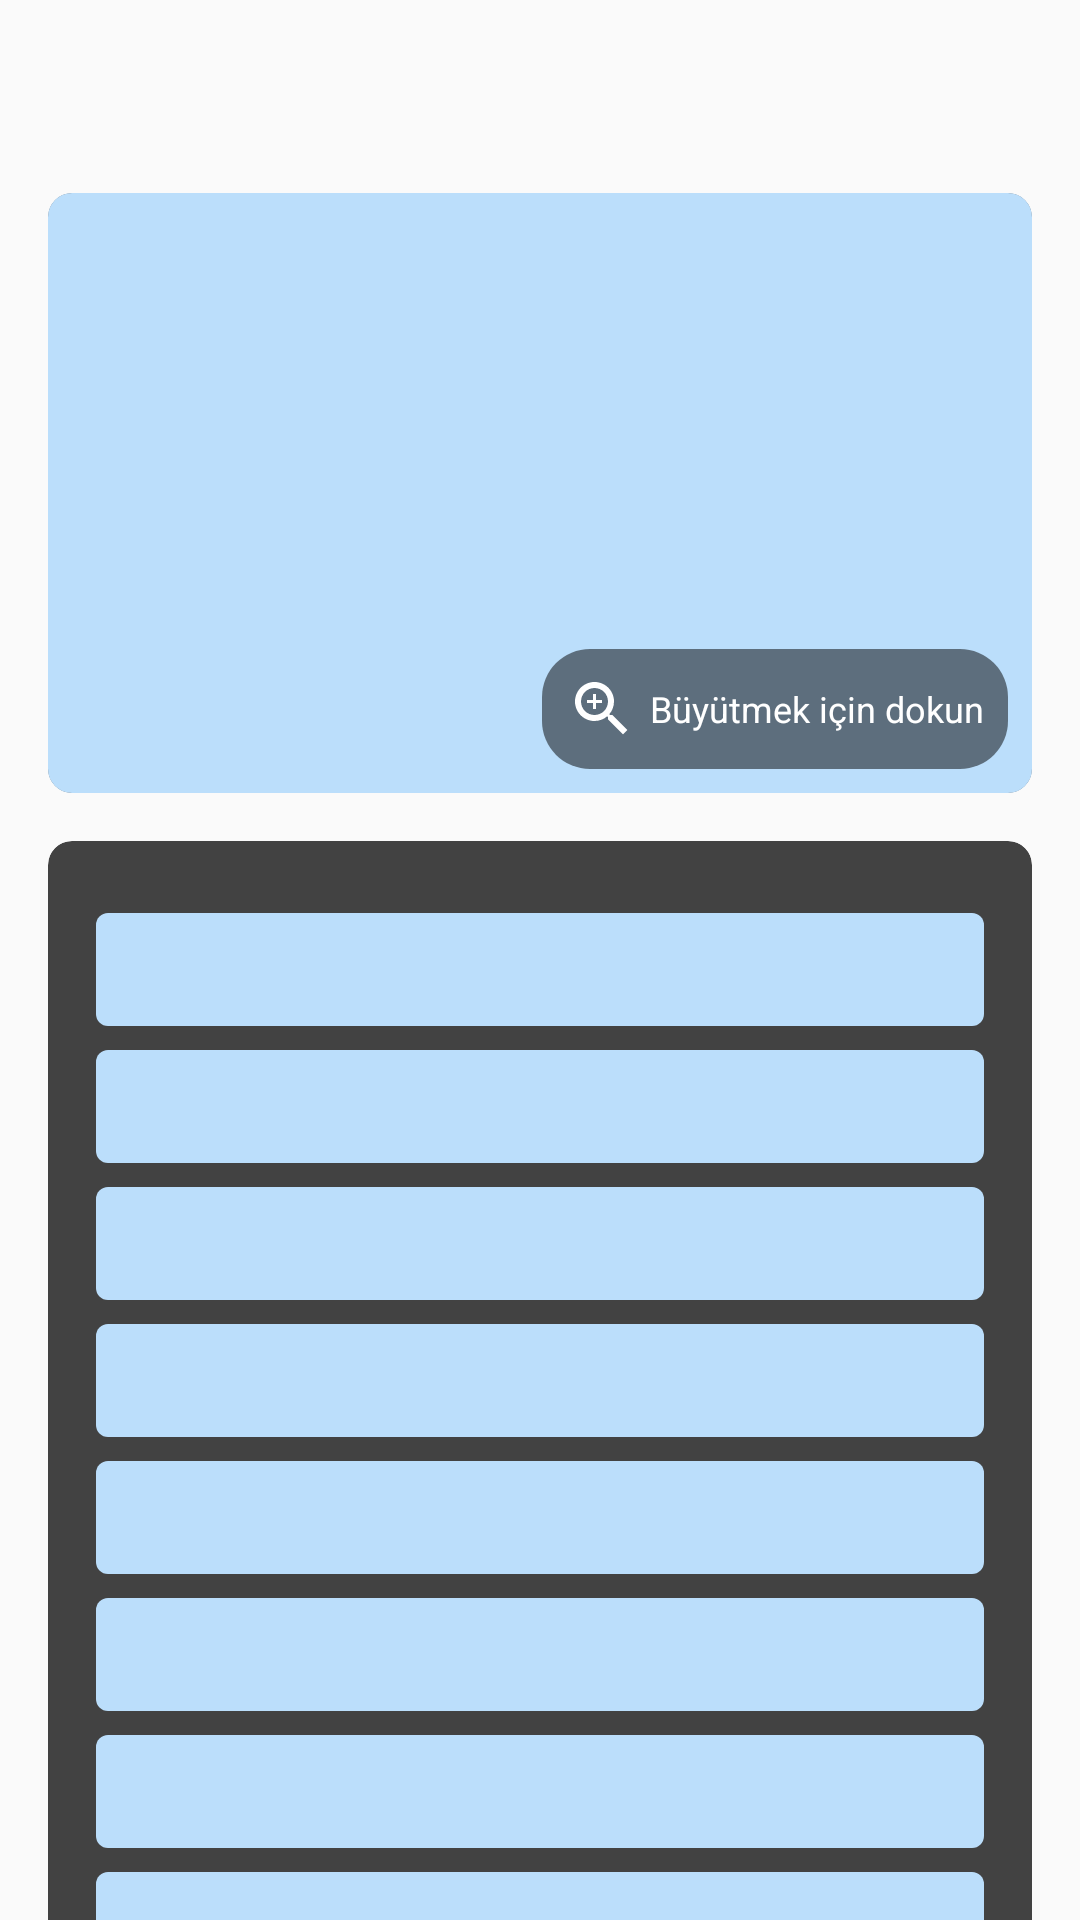

Point at icon controls on the screen. Image size 1080×1920, points as [x,y].
zoom: [601,708]
